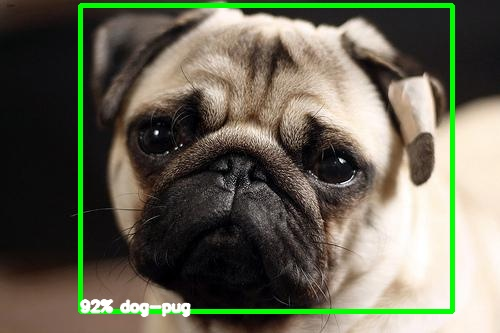dog-pug: (92, 1, 446, 310)
